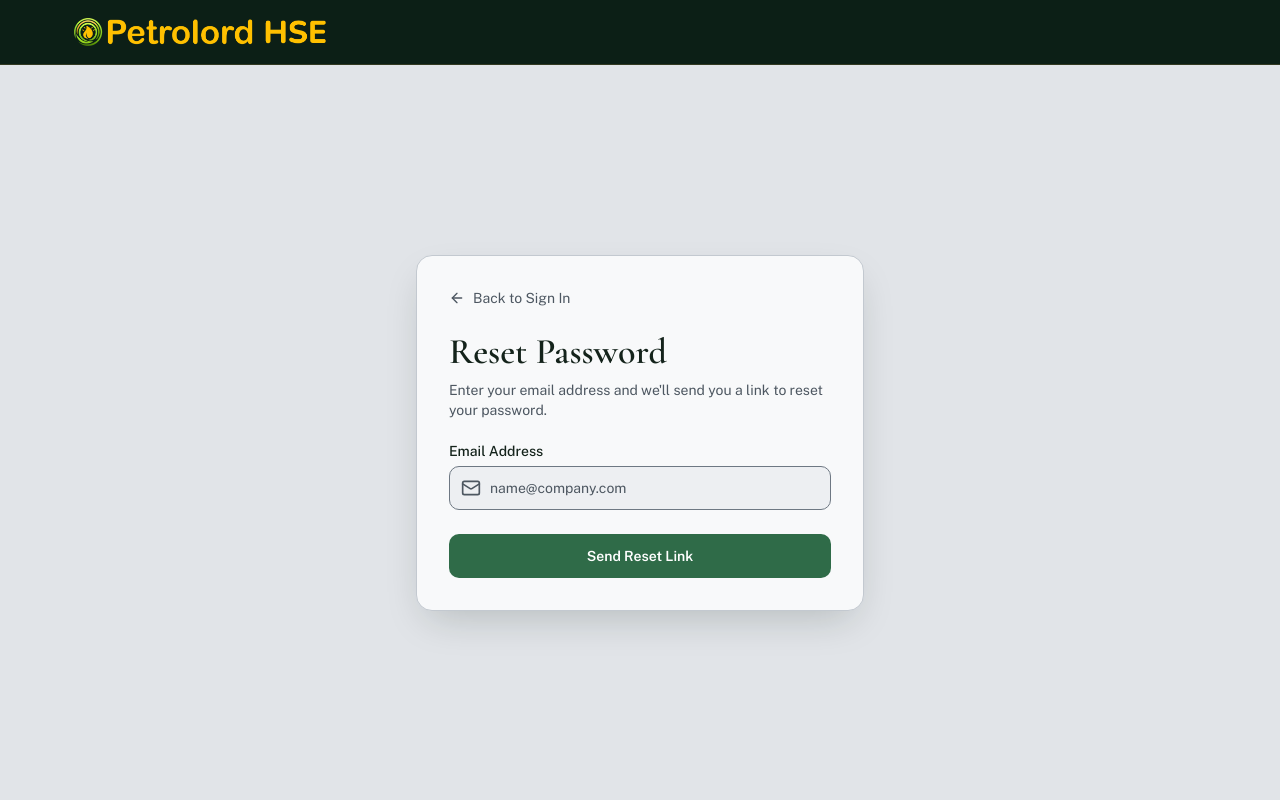
Test case: further auth states on the public frame › forgot password: sends the reset link to /auth/reset-password and shows the sent state
Expected: the heading "Reset Password" is shown, [449, 330, 667, 372]
Type "lead@example.com" into the field labelled "Email Address" at (640,488), box [449, 466, 831, 510]
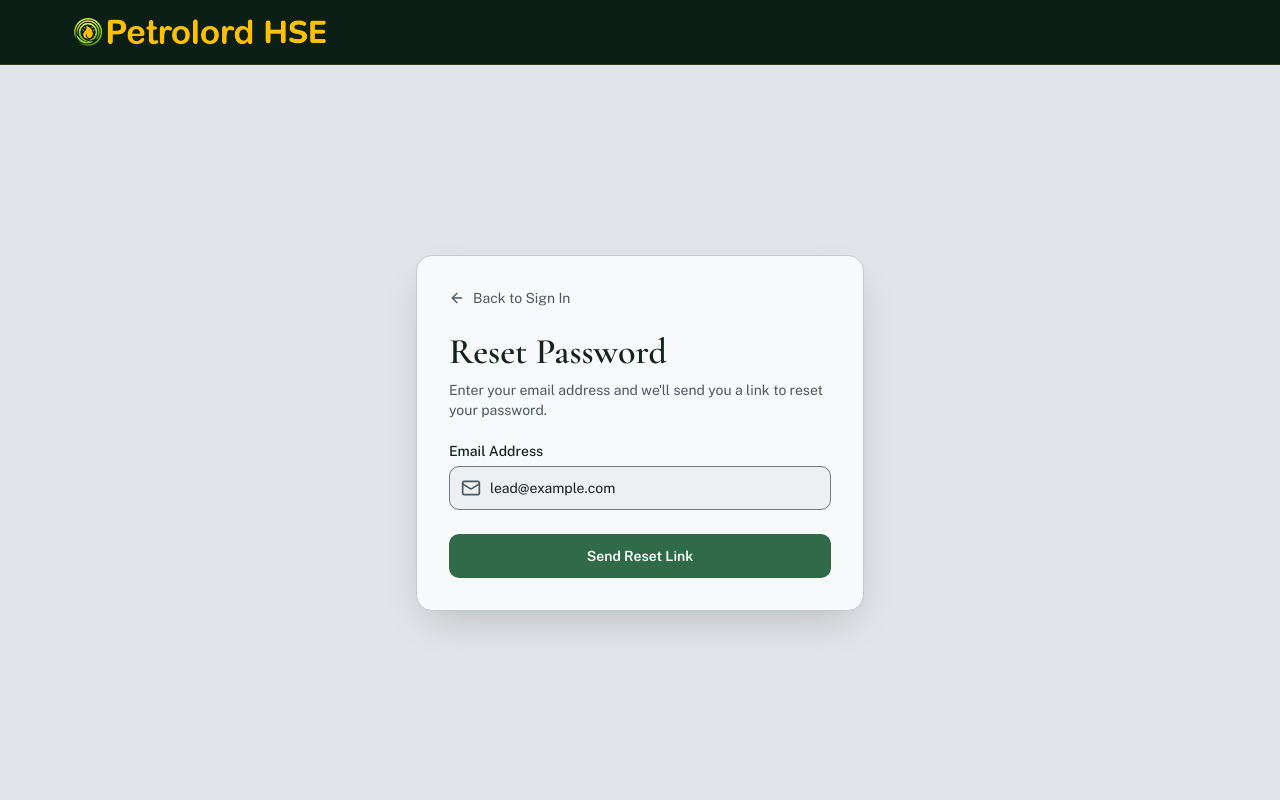
Click the button "Send Reset Link" at (640,556), box [449, 534, 831, 578]
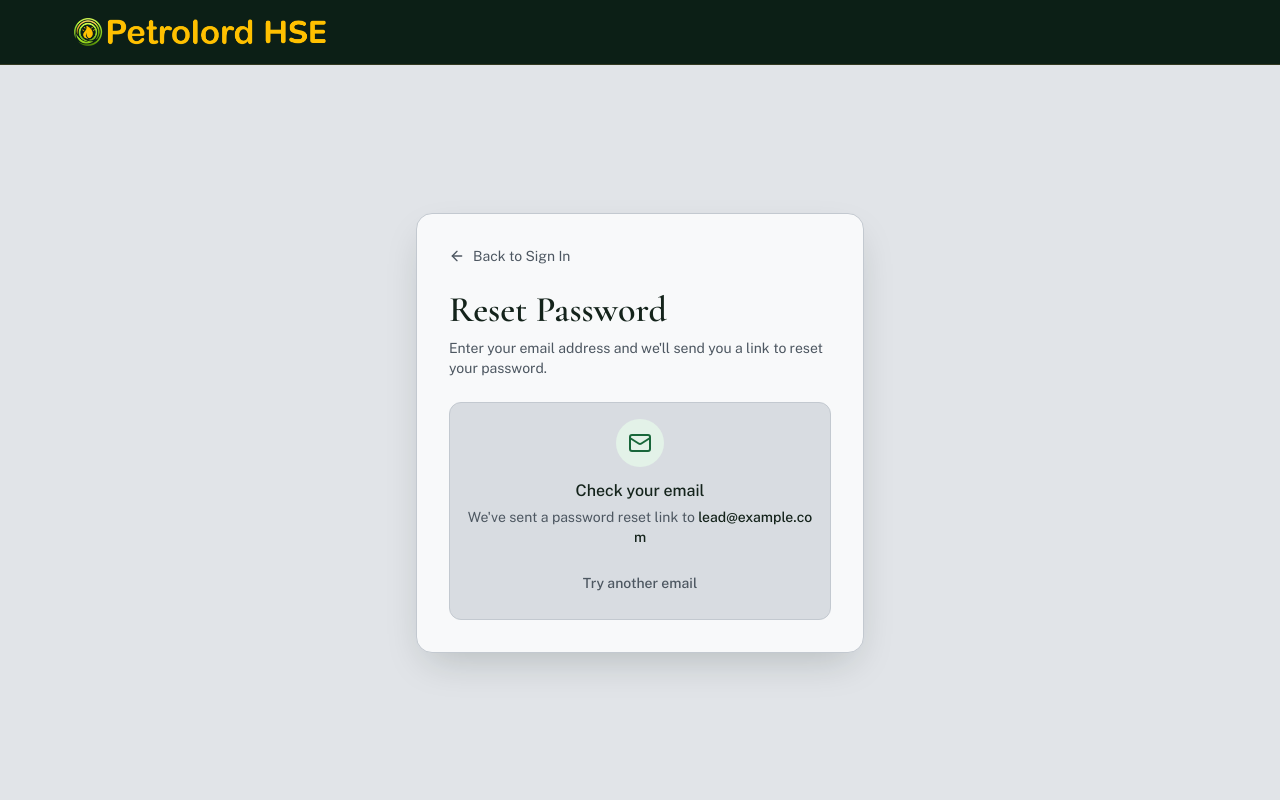
Expected: the heading "Check your email" is shown, [576, 480, 704, 500]
